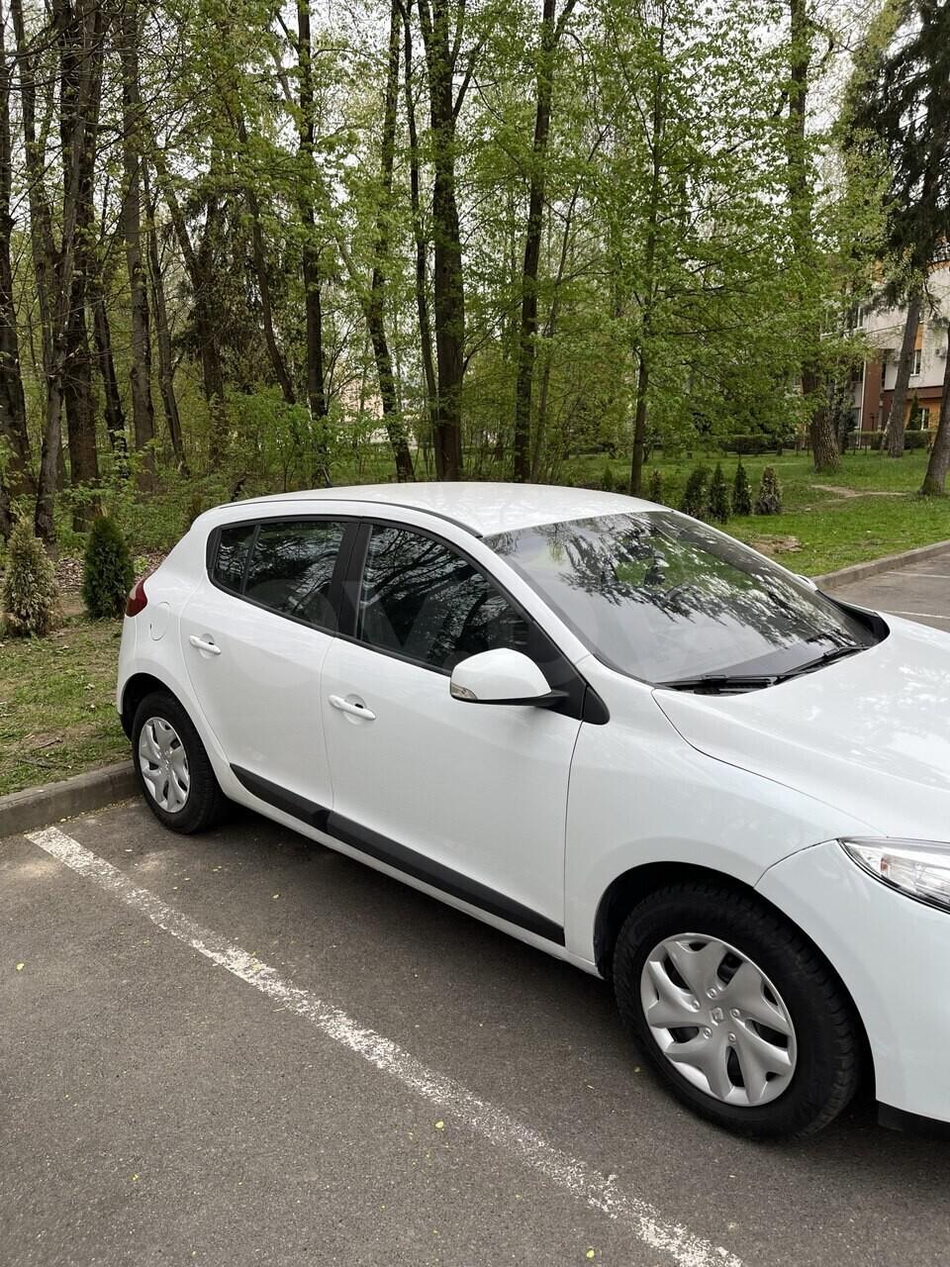Megane_2012-2014: (129, 482, 950, 1145)
